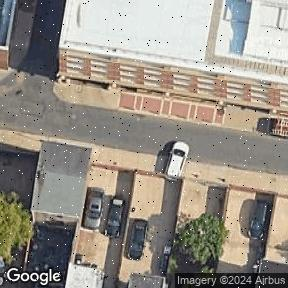vegetation: (165, 204, 238, 278), (0, 192, 32, 268)
